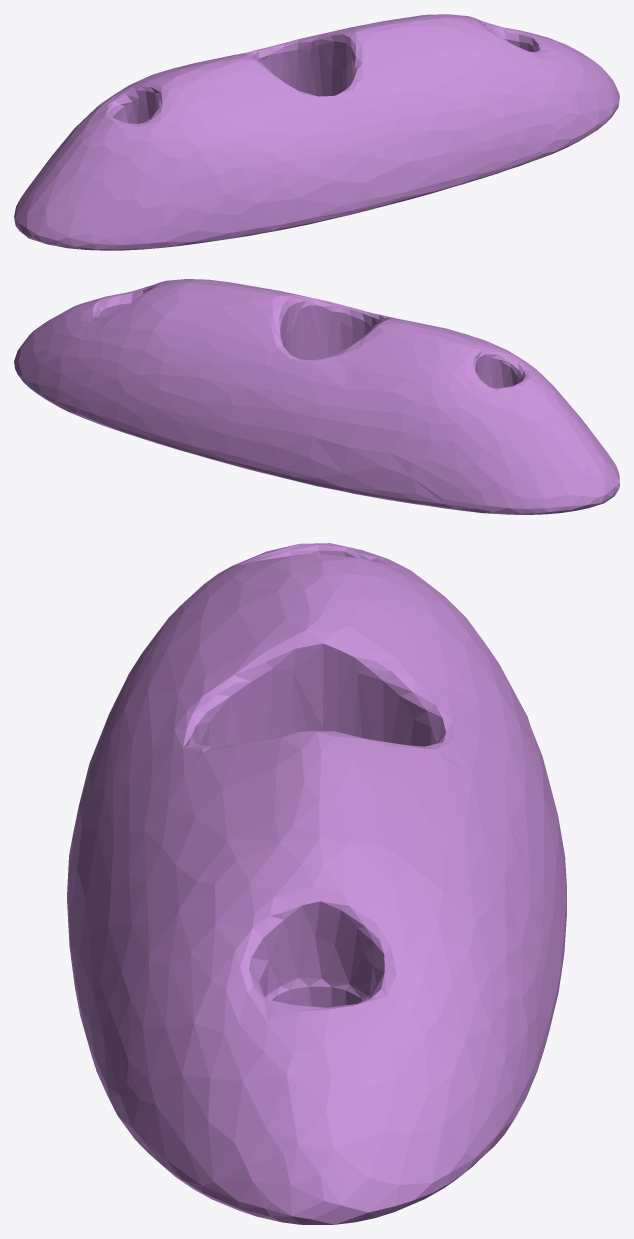
The model's file is purple-foothold.glb.
The picture shows the model from 3 angles, top to bottom: view 1: azimuth 30°, elevation 25°; view 2: azimuth 150°, elevation 25°; view 3: azimuth 270°, elevation 25°; orthographic projection. The views are drawn at different scales.
Parts seen in each view (by area): view 1: purple-foothold_dec.ply; view 2: purple-foothold_dec.ply; view 3: purple-foothold_dec.ply.
Part boxes in pixels (box(x1,y1,x2,y2)): purple-foothold_dec.ply: box(14, 14, 619, 250); purple-foothold_dec.ply: box(14, 279, 619, 514); purple-foothold_dec.ply: box(67, 543, 566, 1224).
Size of the model in its own units: 0.4002 by 0.0802 by 0.1471.
